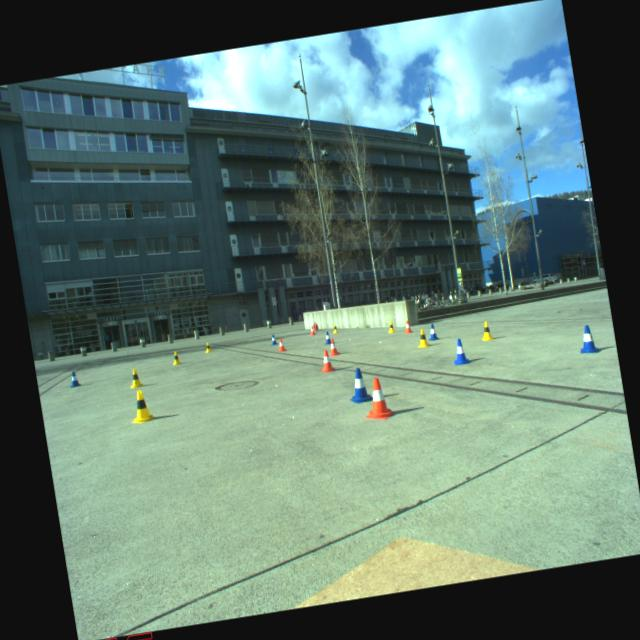blue_cone: (346, 366, 376, 404), (576, 324, 602, 356), (450, 338, 470, 366), (68, 371, 82, 388), (427, 324, 440, 342), (324, 331, 334, 345), (270, 334, 278, 346)
orange_cone: (360, 375, 396, 422), (318, 350, 336, 374), (326, 338, 341, 357), (276, 338, 288, 352), (404, 320, 414, 334), (309, 326, 316, 336)
yellow_cone: (128, 389, 156, 425), (128, 368, 145, 390), (479, 320, 494, 341), (416, 328, 430, 348), (172, 352, 182, 366), (386, 320, 396, 334), (205, 343, 212, 354), (332, 324, 339, 334)
